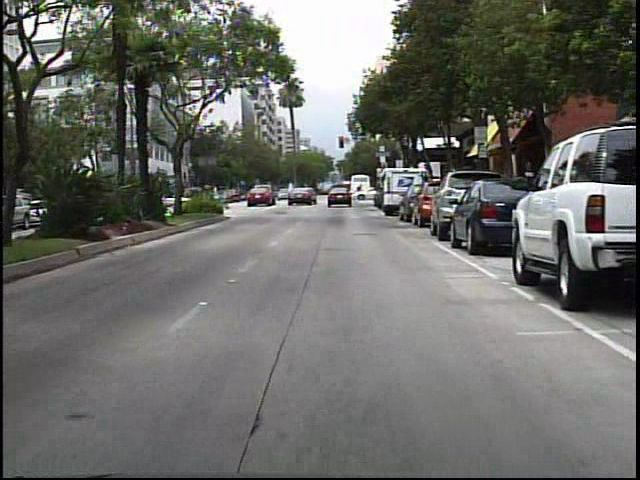person: (353, 181, 369, 202), (300, 184, 313, 205)
